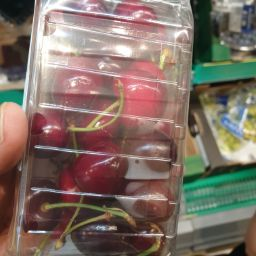Cherry: (29, 1, 180, 251), (47, 21, 171, 132), (29, 182, 148, 255), (63, 150, 174, 225), (33, 114, 129, 191)
